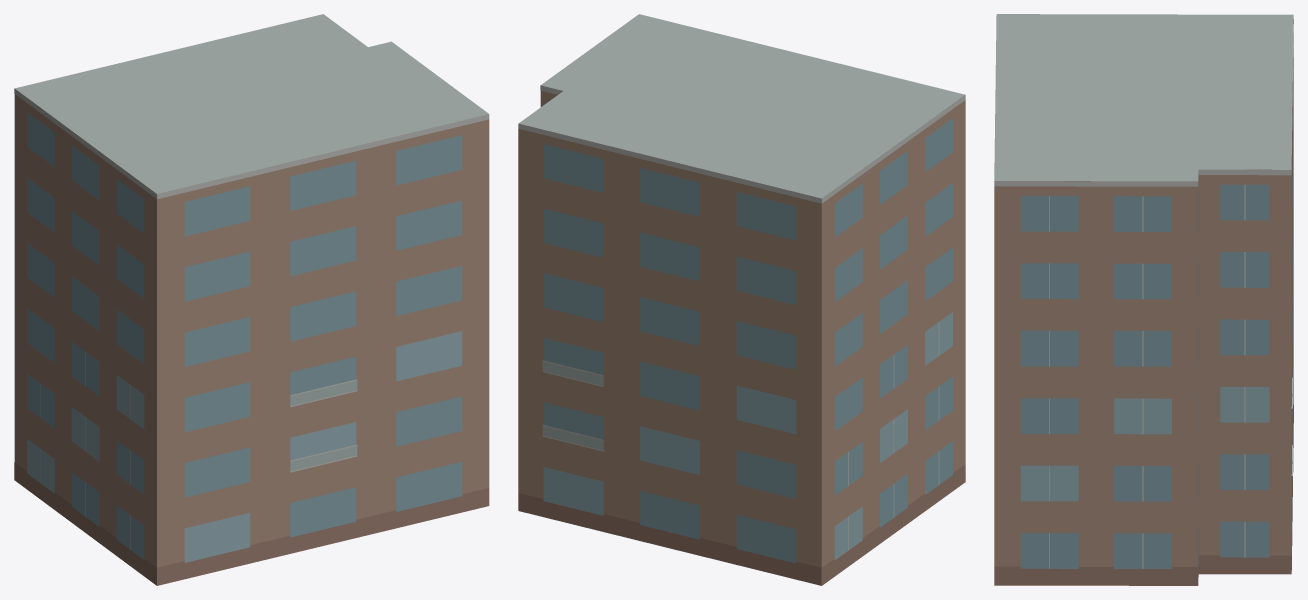
The model's file is survey-upis-32835183.glb.
3 views of the same model, side by side, from view 1: azimuth 30°, elevation 25°; view 2: azimuth 150°, elevation 25°; view 3: azimuth 270°, elevation 25° (orthographic). The views are drawn at different scales.
Parts seen in each view (by area): view 1: survey-upis-32835183.tmp; view 2: survey-upis-32835183.tmp; view 3: survey-upis-32835183.tmp.
Part boxes in pixels (bbox=[...]): survey-upis-32835183.tmp: bbox=[14, 14, 489, 585]; survey-upis-32835183.tmp: bbox=[518, 14, 965, 585]; survey-upis-32835183.tmp: bbox=[994, 14, 1293, 585].
Size of the model in its own units: 16.25 by 18.3 by 12.29.
